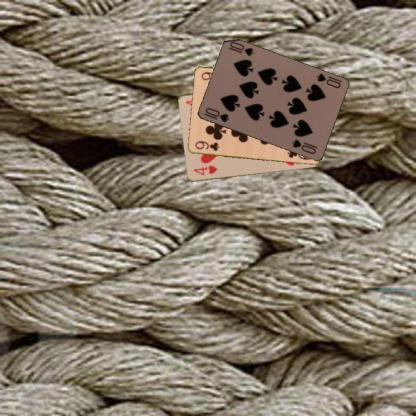10s: (201, 105, 230, 124), (314, 71, 342, 90)
4h: (190, 163, 218, 177)
9c: (192, 138, 221, 152)
